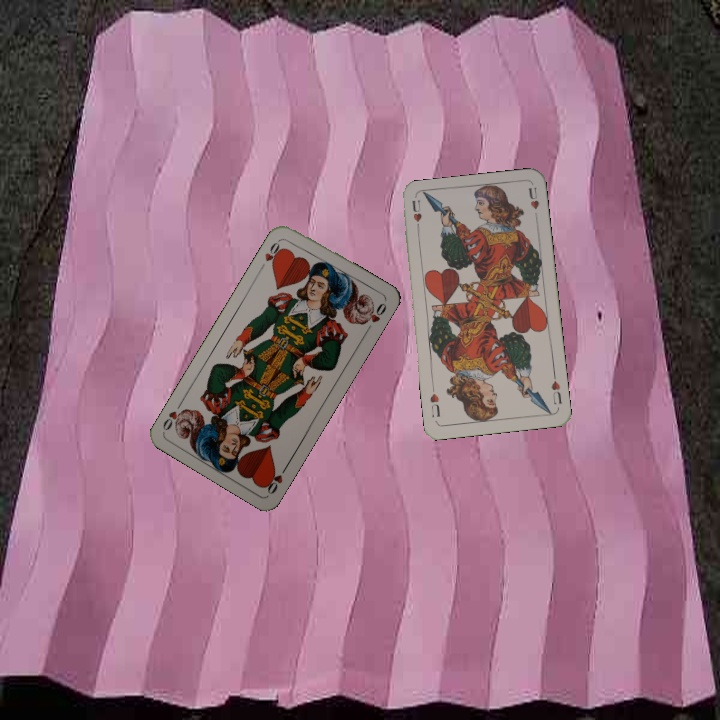HO: (261, 460, 291, 497), (257, 235, 286, 272)
HU: (408, 196, 424, 236), (547, 370, 564, 407)
